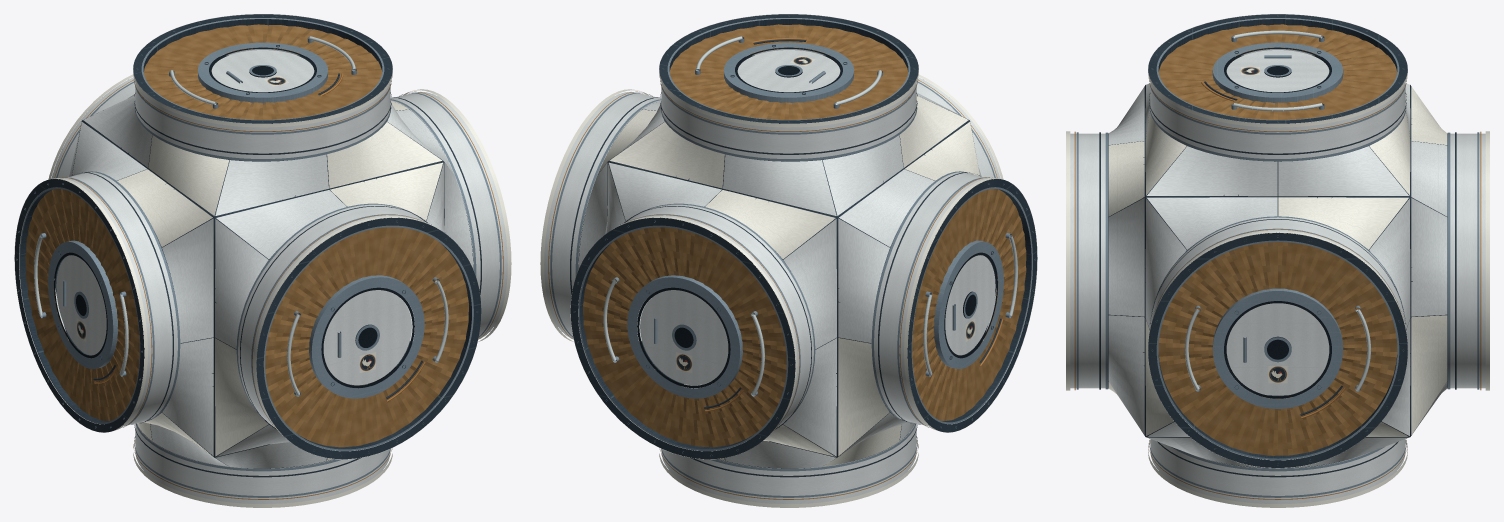
The model's file is RW_HUB_250.obj.
3 views of the same model, side by side, from view 1: azimuth 30°, elevation 25°; view 2: azimuth 150°, elevation 25°; view 3: azimuth 270°, elevation 25° (orthographic).
Visible parts, largest first — view 1: ceramic, hubblanket, white, graphite, steel, black, bronze, rail, crest; view 2: ceramic, hubblanket, white, graphite, steel, black, bronze, rail, crest; view 3: ceramic, hubblanket, white, graphite, steel, bronze, black, rail, crest.
Part boxes in pixels (x1,y1,x2,y2): ceramic: [19, 18, 507, 503]; hubblanket: [25, 24, 468, 447]; white: [14, 14, 511, 507]; graphite: [14, 14, 481, 477]; steel: [16, 15, 501, 497]; black: [54, 47, 414, 388]; bronze: [54, 73, 503, 499]; rail: [34, 36, 448, 395]; crest: [76, 75, 375, 372]; ceramic: [544, 18, 1032, 503]; hubblanket: [583, 24, 1026, 447]; white: [540, 14, 1037, 507]; graphite: [570, 14, 1037, 477]; steel: [550, 15, 1035, 497]; black: [637, 47, 997, 388]; bronze: [548, 38, 1002, 499]; rail: [603, 36, 1017, 395]; crest: [676, 55, 975, 372]; ceramic: [1070, 18, 1485, 503]; hubblanket: [1158, 24, 1397, 455]; white: [1066, 14, 1489, 507]; graphite: [1099, 14, 1456, 477]; steel: [1076, 15, 1479, 497]; bronze: [1074, 81, 1481, 499]; black: [1224, 47, 1331, 398]; rail: [1185, 30, 1370, 389]; crest: [1241, 67, 1287, 383].
Size of the model in its own units: 4 by 4 by 4.
Materials: 9 (9 with a texture image).
